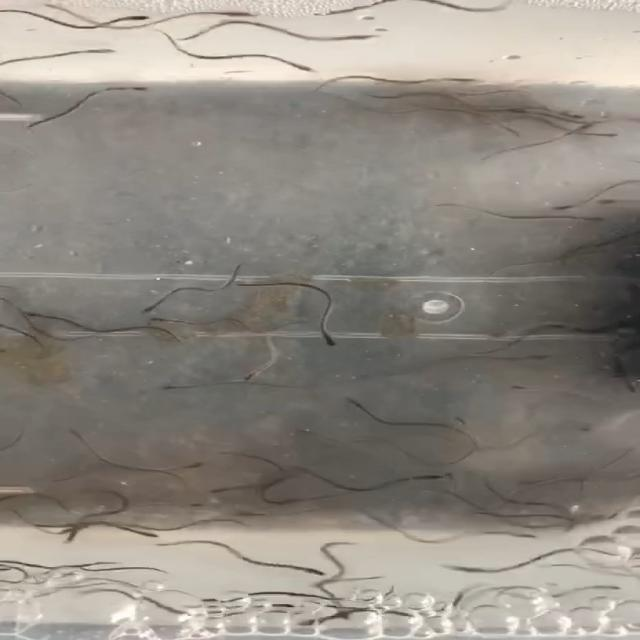active_glass_eel: (265, 48, 321, 82), (135, 309, 185, 339), (307, 324, 365, 349), (486, 522, 536, 549), (56, 420, 98, 452), (332, 389, 377, 418), (122, 78, 163, 108), (578, 205, 616, 237), (143, 374, 197, 396), (481, 124, 547, 140), (78, 41, 131, 60), (483, 380, 535, 399), (286, 556, 328, 579), (190, 485, 248, 501), (490, 99, 536, 117), (432, 561, 475, 580), (419, 468, 456, 488), (118, 297, 156, 316), (112, 10, 152, 28), (126, 523, 159, 544), (544, 195, 575, 217), (549, 102, 583, 122), (56, 522, 93, 540), (570, 424, 616, 438), (174, 453, 203, 474), (344, 31, 376, 50), (441, 69, 474, 87), (16, 308, 53, 322), (230, 9, 263, 24), (593, 125, 619, 144), (234, 373, 268, 387), (318, 9, 350, 22)
